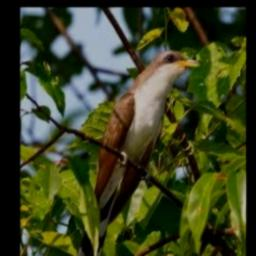Cuckoo: (72, 50, 200, 256)
